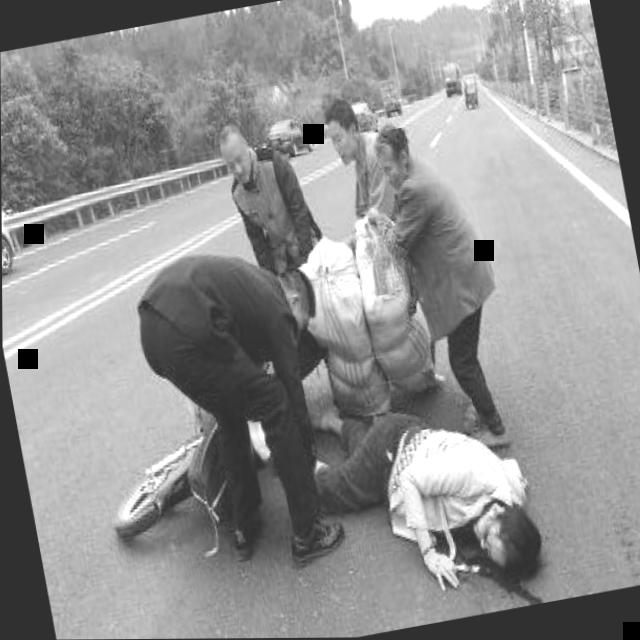Fall-Detected: (286, 350, 562, 625)
